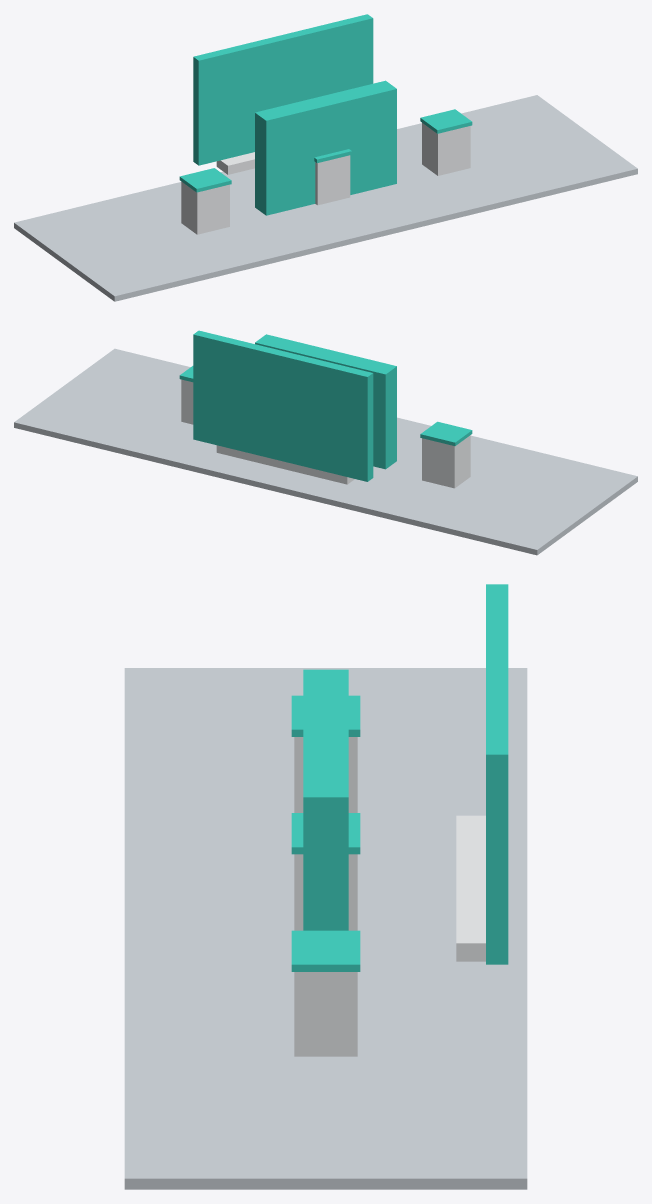
3 renders of one model, top to bottom at view 1: azimuth 30°, elevation 25°; view 2: azimuth 150°, elevation 25°; view 3: azimuth 270°, elevation 25°, orthographic. The views are drawn at different scales.
Visible parts, largest first — view 1: Exhibition Booth Concept; view 2: Exhibition Booth Concept; view 3: Exhibition Booth Concept.
Boxes of the visible parts, <box> form: Exhibition Booth Concept: <box>14,14,637,301</box>; Exhibition Booth Concept: <box>14,330,637,555</box>; Exhibition Booth Concept: <box>124,584,527,1189</box>.
Bounding box in the file's own units: 12 × 2.9 × 4.
